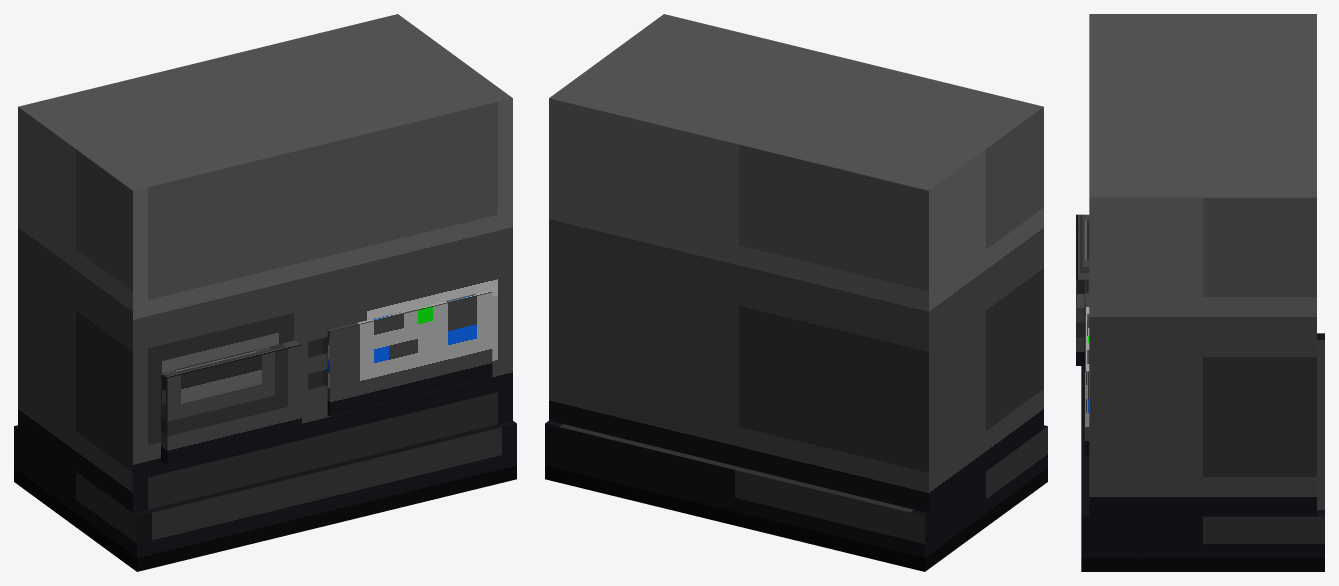
Rendered from research_server.glb.
The picture shows the model from 3 angles, left to right: view 1: azimuth 30°, elevation 25°; view 2: azimuth 150°, elevation 25°; view 3: azimuth 270°, elevation 25°; orthographic projection.
Parts seen in each view (by area): view 1: Server_Chassis, Status_RD-server-on, Service_Hatch; view 2: Server_Chassis; view 3: Server_Chassis, Service_Hatch, Status_RD-server-on.
Part boxes in pixels (<box>): Server_Chassis: <box>14,14,516,571</box>; Status_RD-server-on: <box>327,290,492,416</box>; Service_Hatch: <box>161,340,301,465</box>; Server_Chassis: <box>545,14,1047,571</box>; Server_Chassis: <box>1081,14,1324,571</box>; Service_Hatch: <box>1076,214,1089,365</box>; Status_RD-server-on: <box>1084,293,1089,455</box>.
Size of what is drawn, in the model's own units: 1.64 by 1.56 by 0.94.
1 material, 1 textured.
